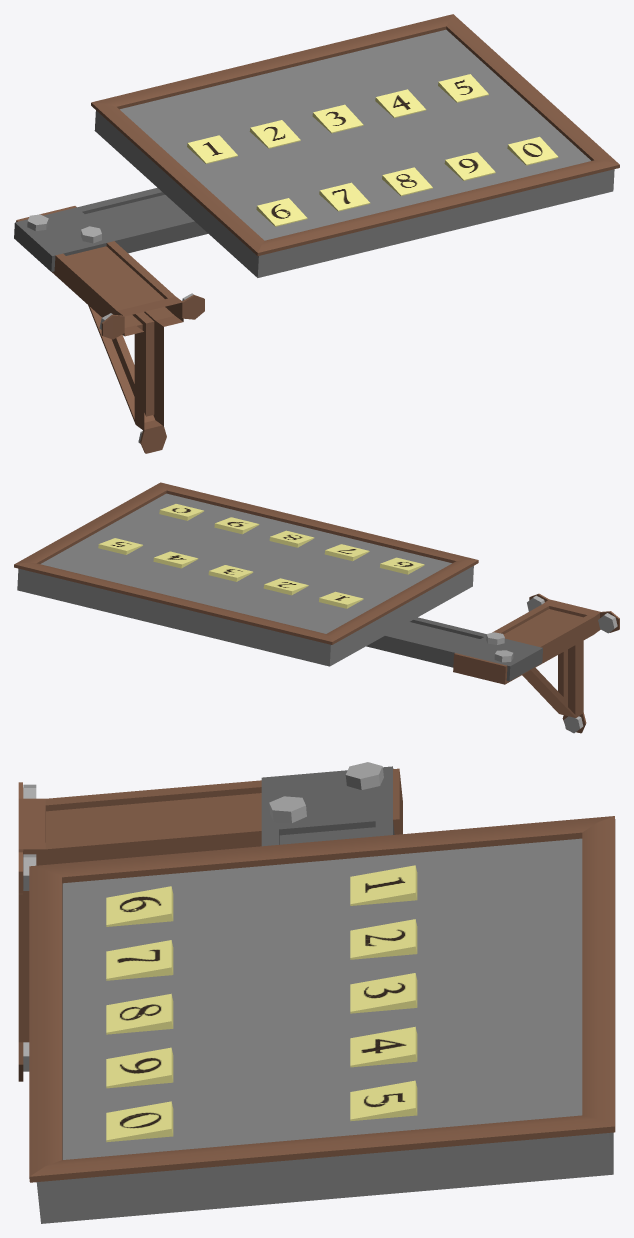
The model's file is SM_UIBaseSide.FBX.
3 views of the same model, one above another, from view 1: azimuth 30°, elevation 25°; view 2: azimuth 150°, elevation 25°; view 3: azimuth 270°, elevation 25° (orthographic). The views are drawn at different scales.
Visible parts, largest first — view 1: SM_MainMenuSide; view 2: SM_MainMenuSide; view 3: SM_MainMenuSide.
Part boxes in pixels (bbox=[...]): SM_MainMenuSide: bbox=[14, 14, 619, 453]; SM_MainMenuSide: bbox=[14, 482, 619, 733]; SM_MainMenuSide: bbox=[18, 762, 615, 1223].
Size of the model in its own units: 161 by 59.08 by 91.11.
